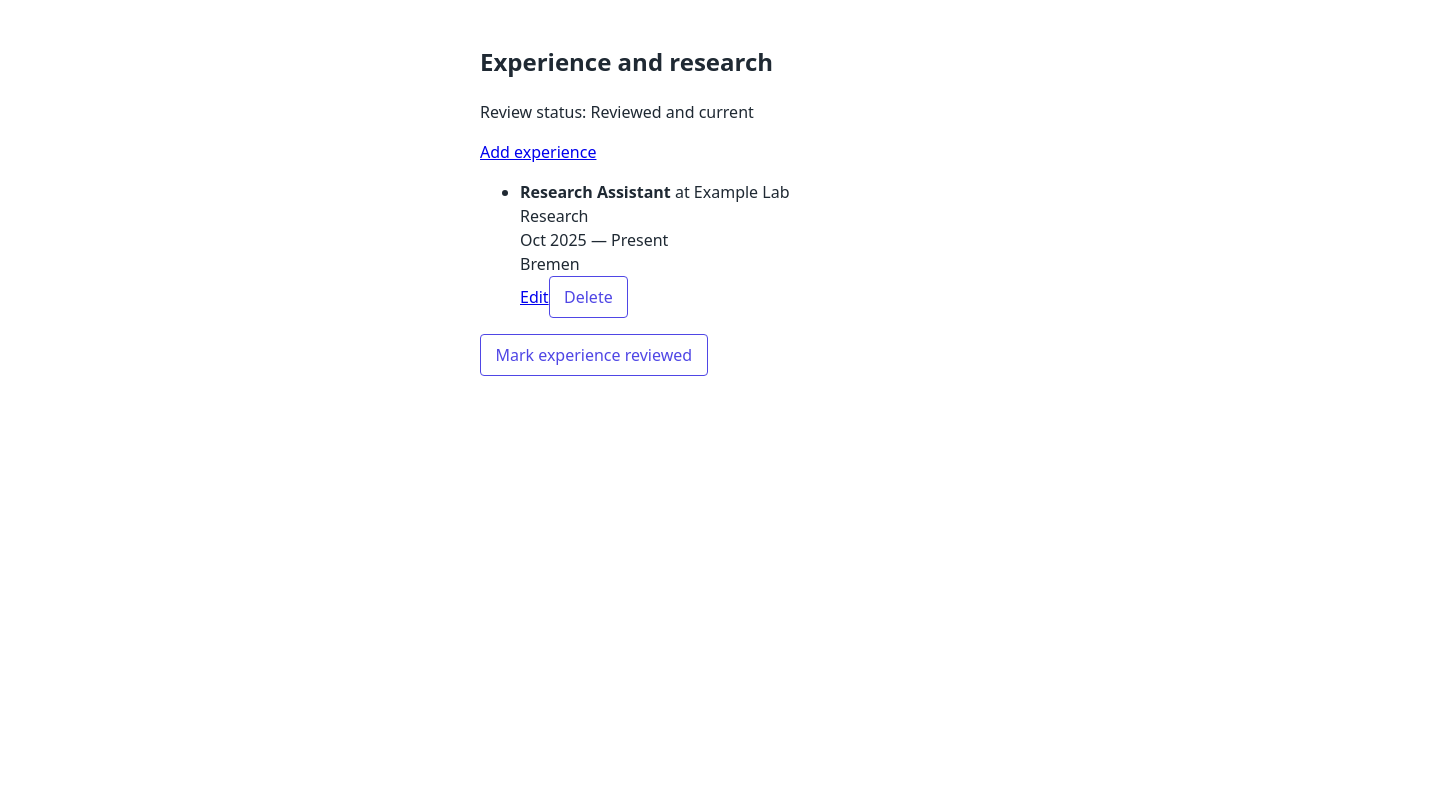
Test case: ExperienceListPage › confirms deletion, reloads, and displays a stale review
The image size is (1440, 810).
Check: the text "Research Assistant" is shown, box x1=520 y1=181 x2=671 y2=203
Click the button "Delete": (588, 297) x1=549 y1=276 x2=628 y2=318
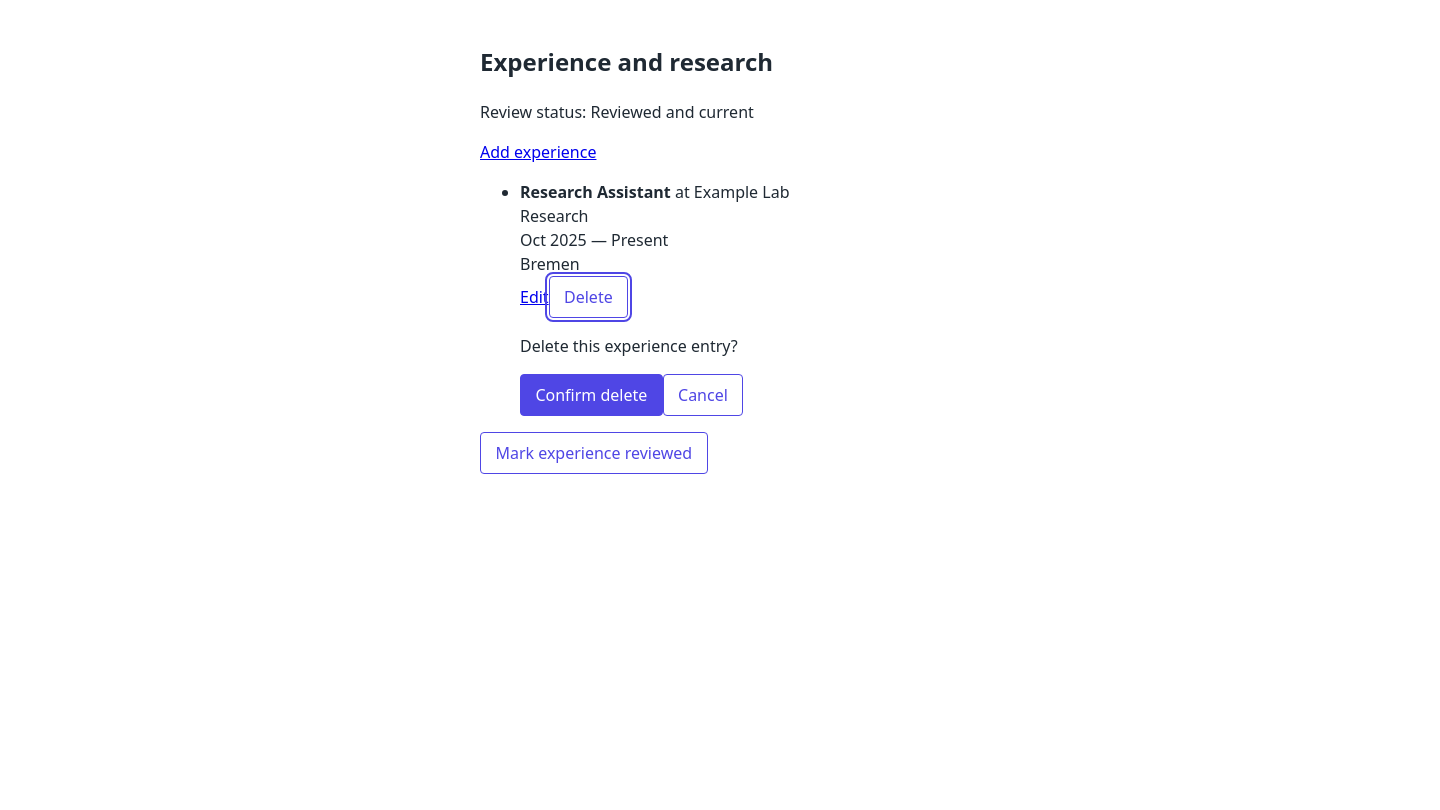
Check: the dialog is shown, box x1=520 y1=335 x2=743 y2=416
Click the button "Confirm delete": (591, 395) x1=520 y1=374 x2=663 y2=416
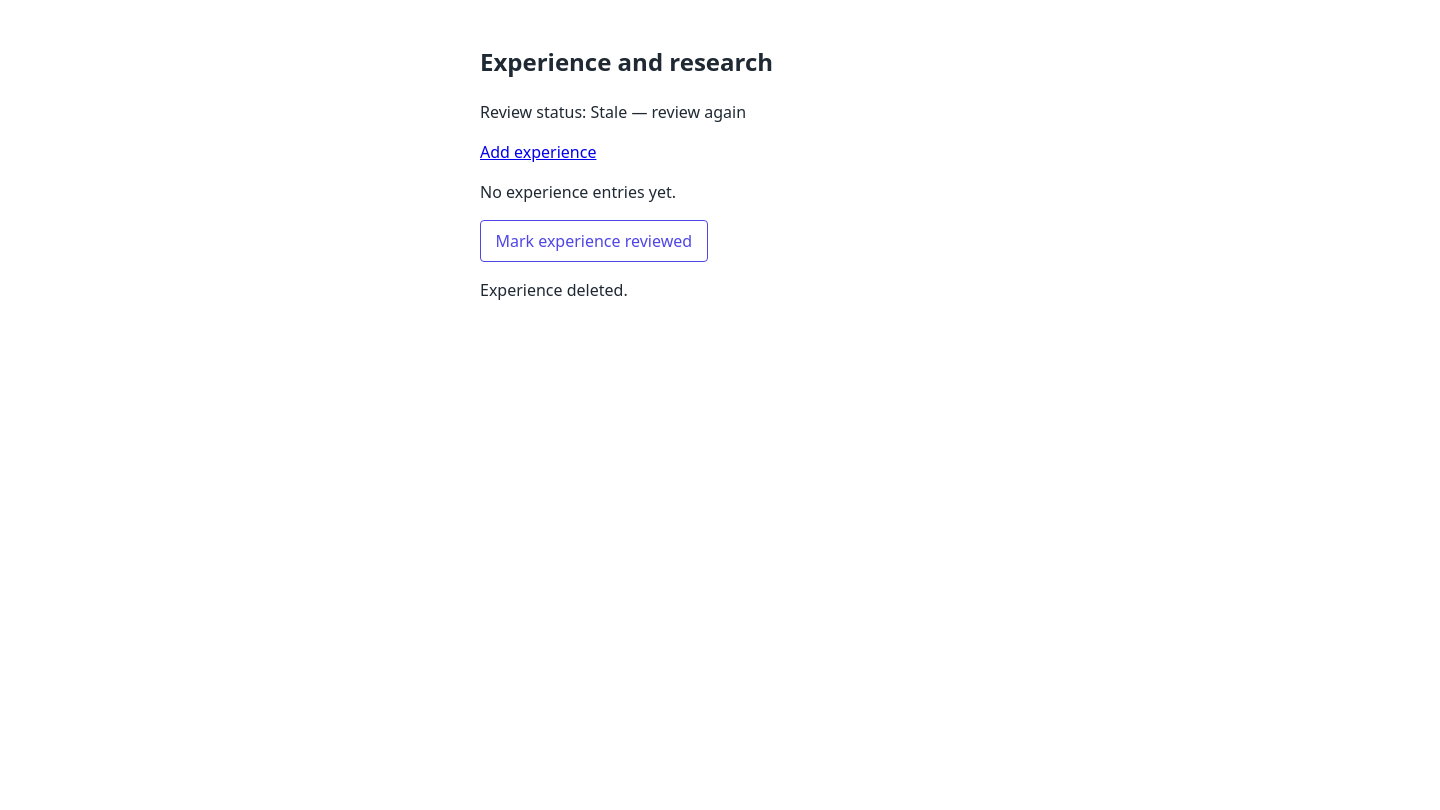
Check: the text "No experience entries yet." is shown, box x1=480 y1=181 x2=676 y2=203
Check: the text "Review status: Stale — review again" is shown, box x1=480 y1=101 x2=746 y2=123
